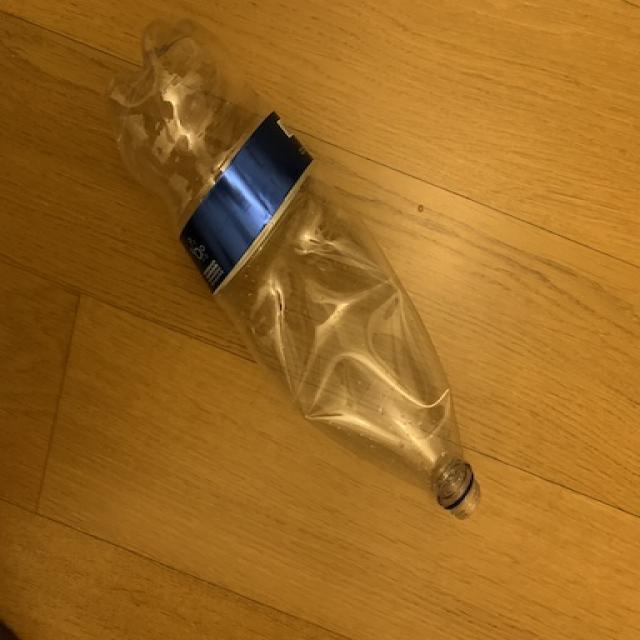Waste: (110, 20, 480, 519)
